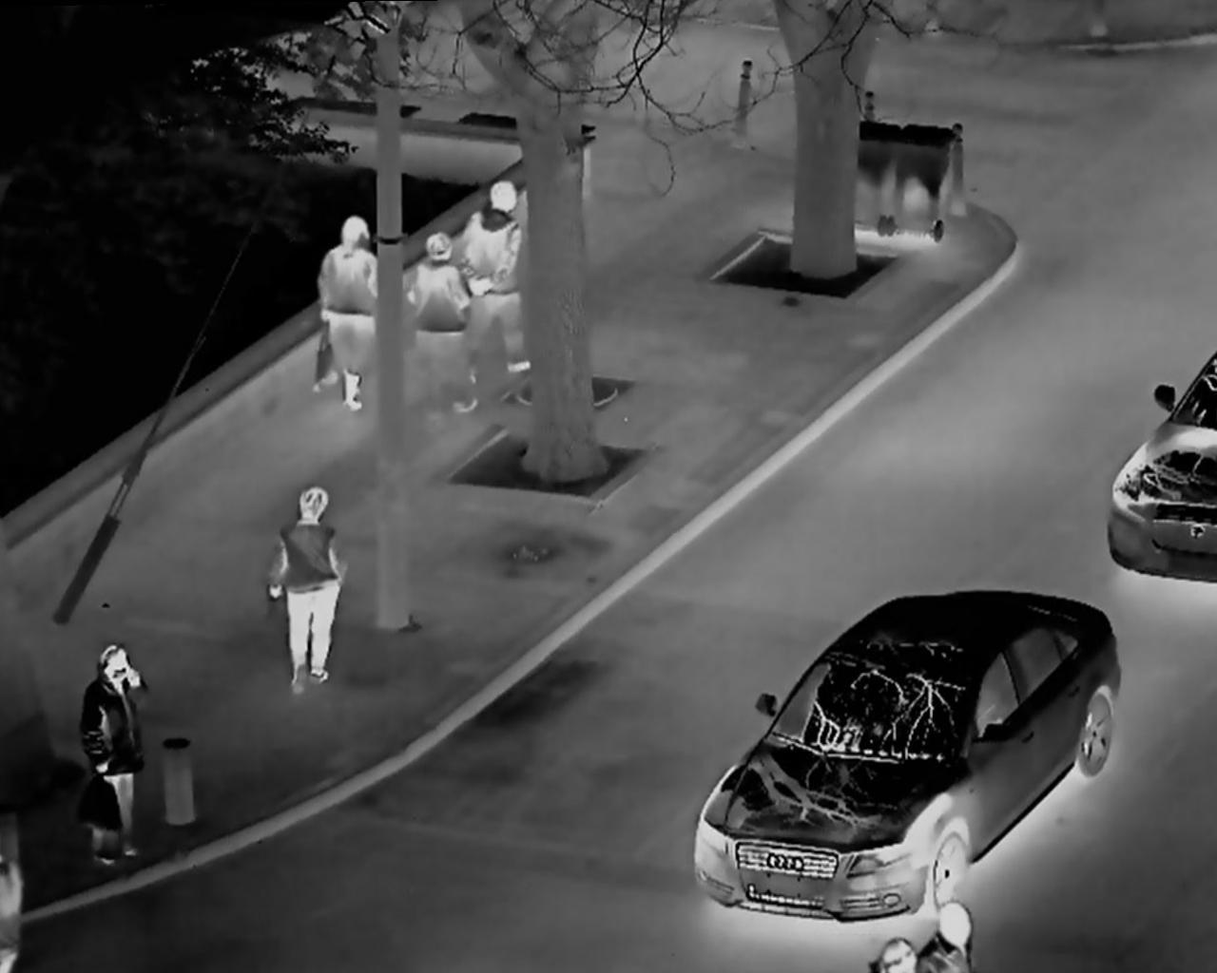person: (63, 639, 157, 869), (266, 469, 352, 693), (462, 174, 530, 382), (322, 206, 381, 422), (407, 228, 473, 414), (870, 895, 974, 973)
